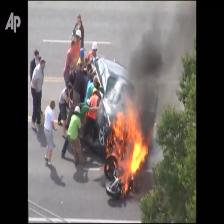fire: (108, 94, 148, 192)
